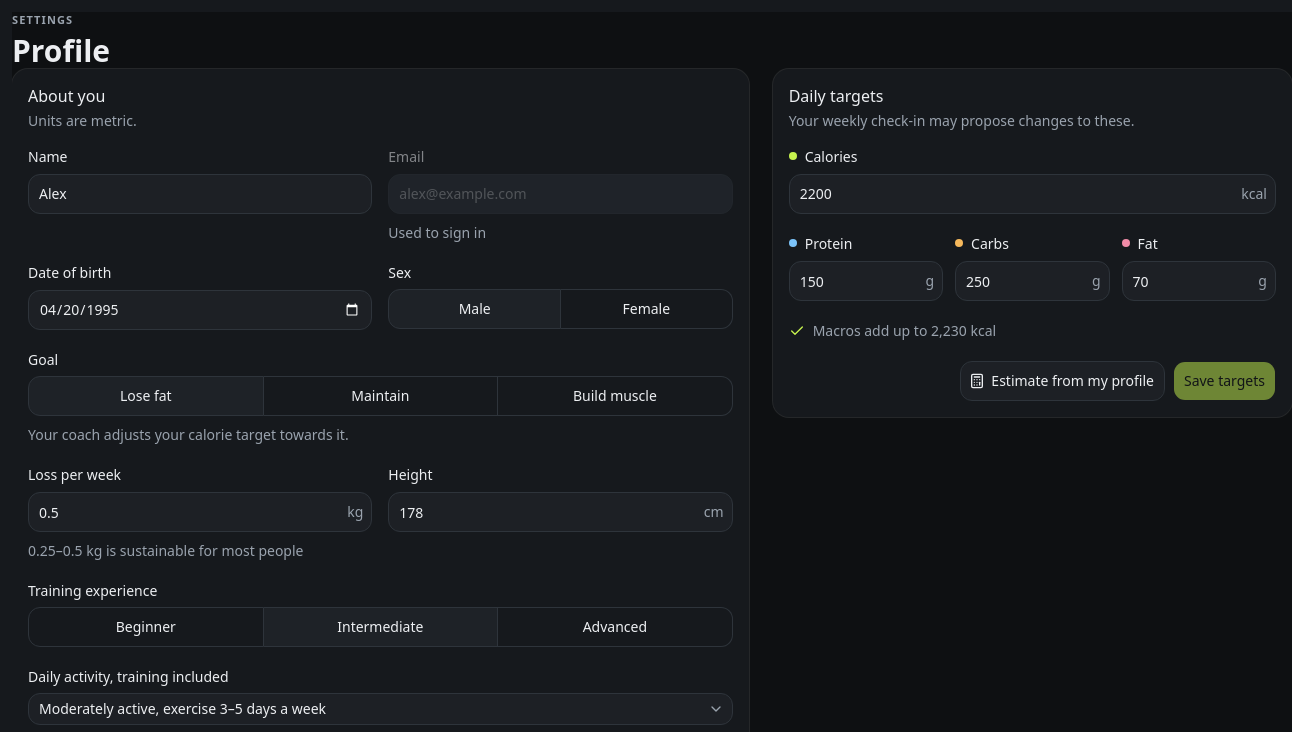
Test case: ProfilePage › refuses calories far below the macros
Replace the text in the field labelled "Calories" with "1000": (1016, 194) [790,178,1241,210]
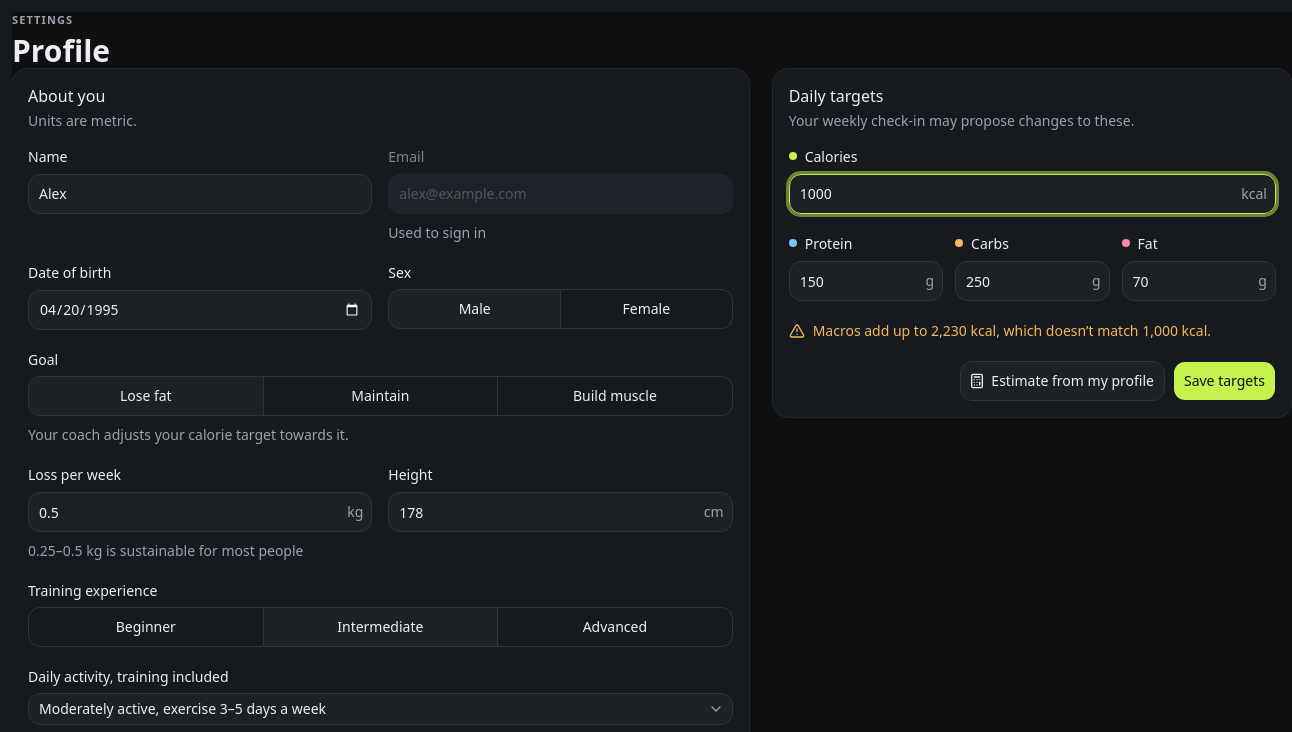
Click the button "Save targets": (1224, 381) [1173,361,1276,401]
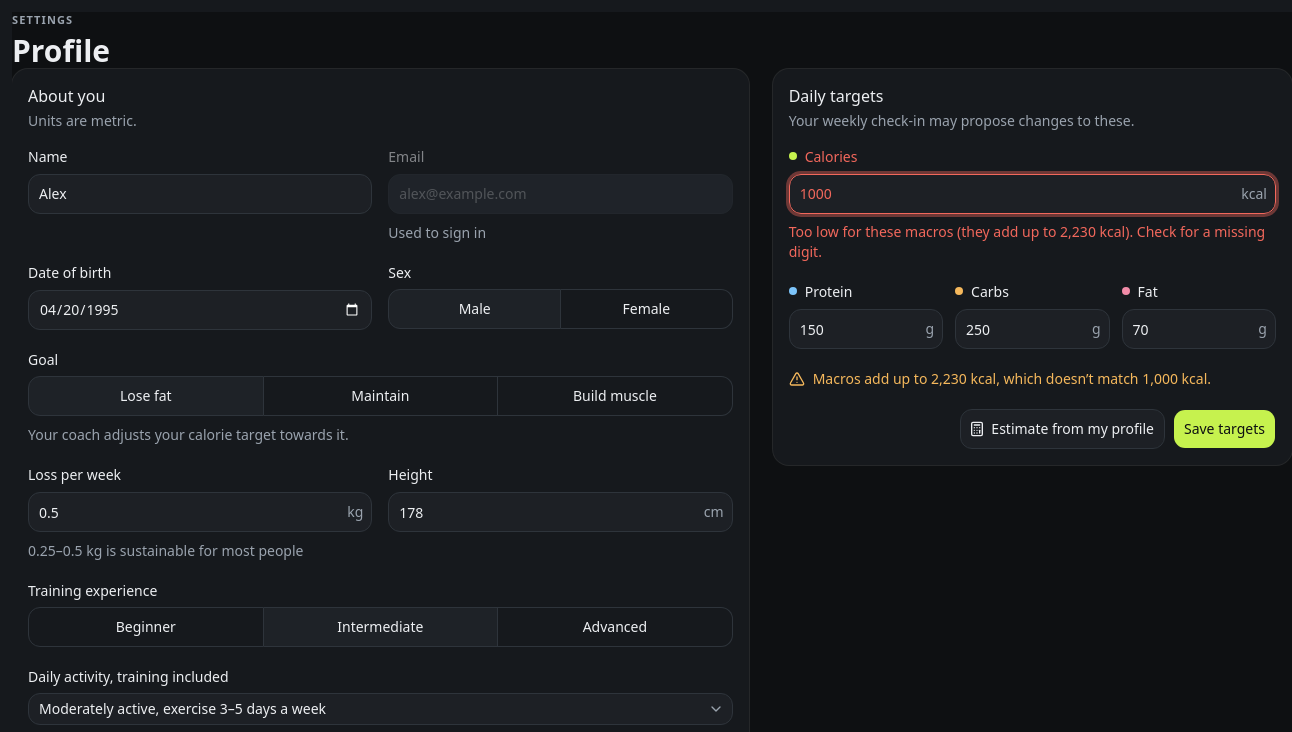
Now the text "Too low for these macros" is shown, box [789,222,1265,261]
